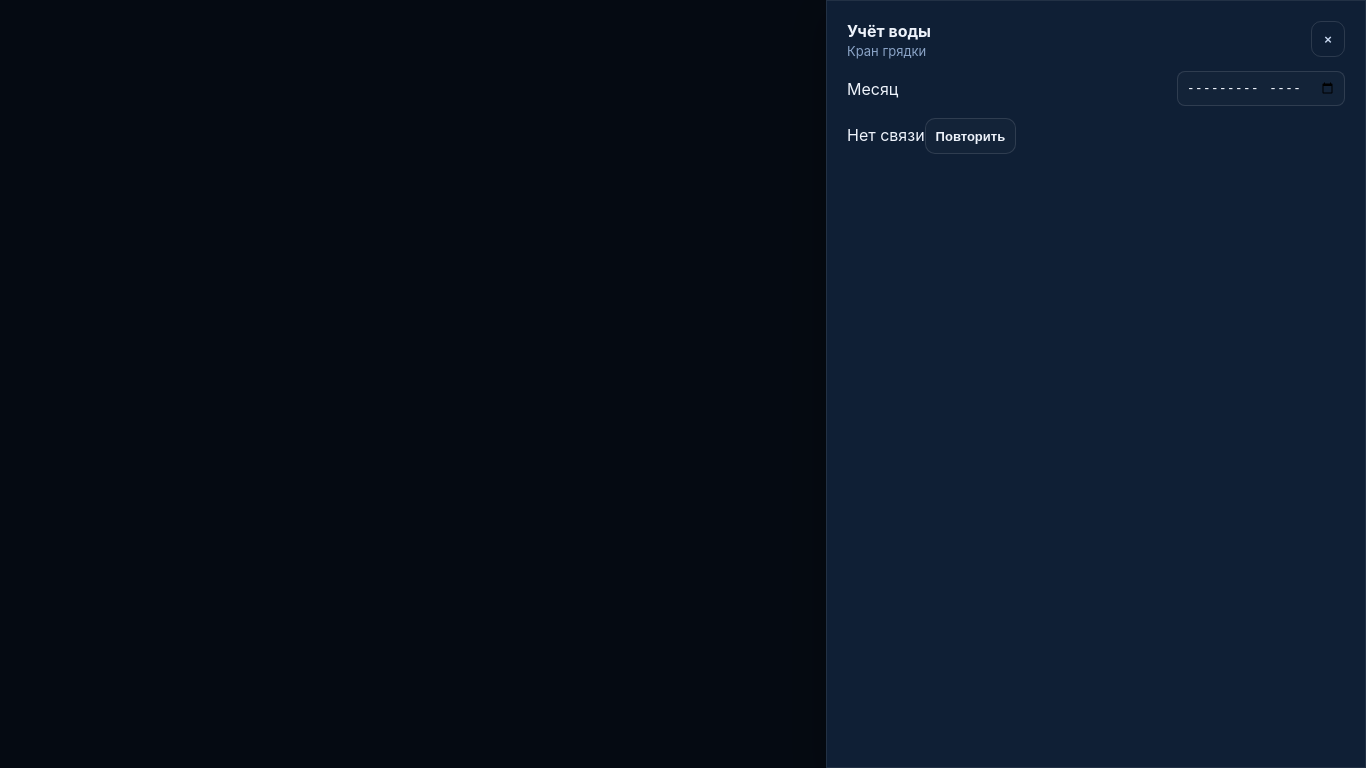
Scenario: WaterMeterPanel › ne podmenyaet dannye pri osibke chteniya i daet povtor
Expected: the message shows "Нет связи", [847,125,925,145]
Step 1. Click the button "Повторить" → (970, 136), box [925,118,1016,154]
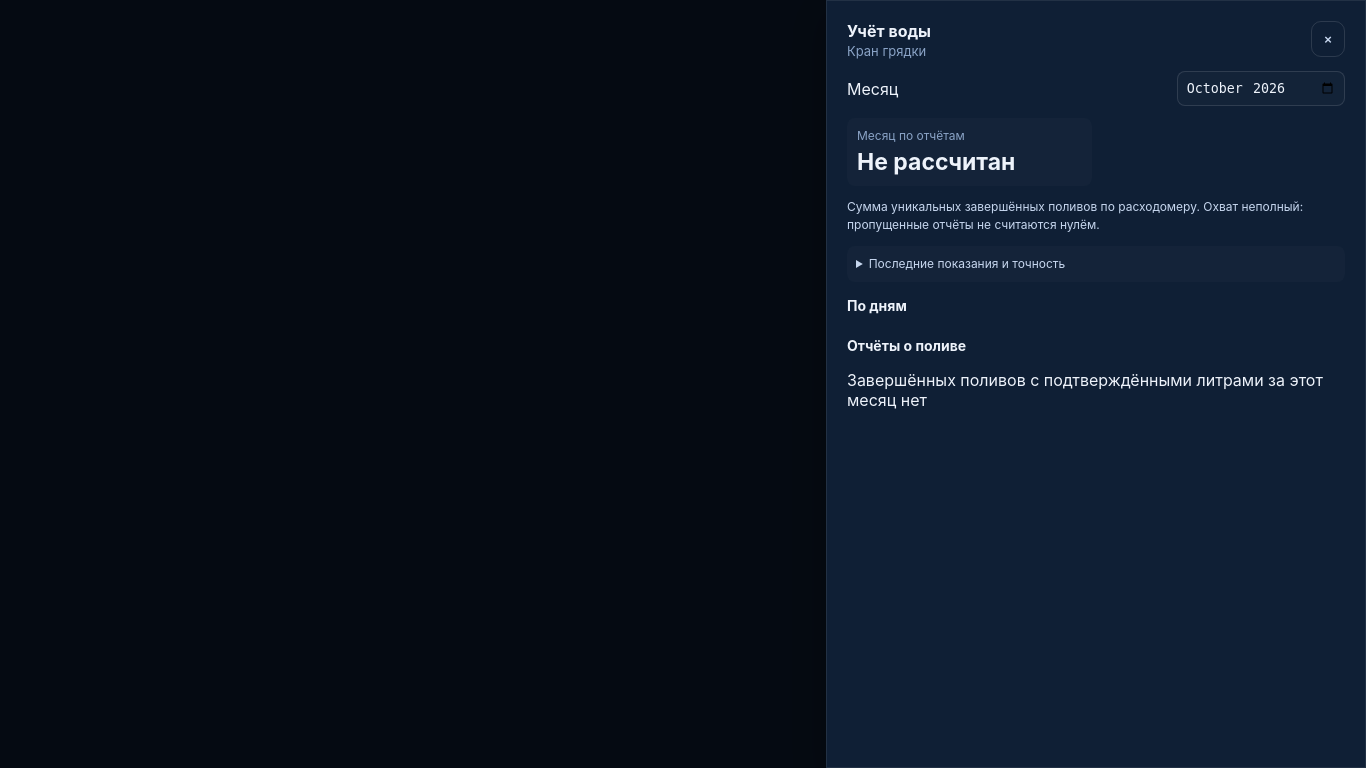
Expected: the text "Месяц по отчётам" is shown, [857,128,965,143]
